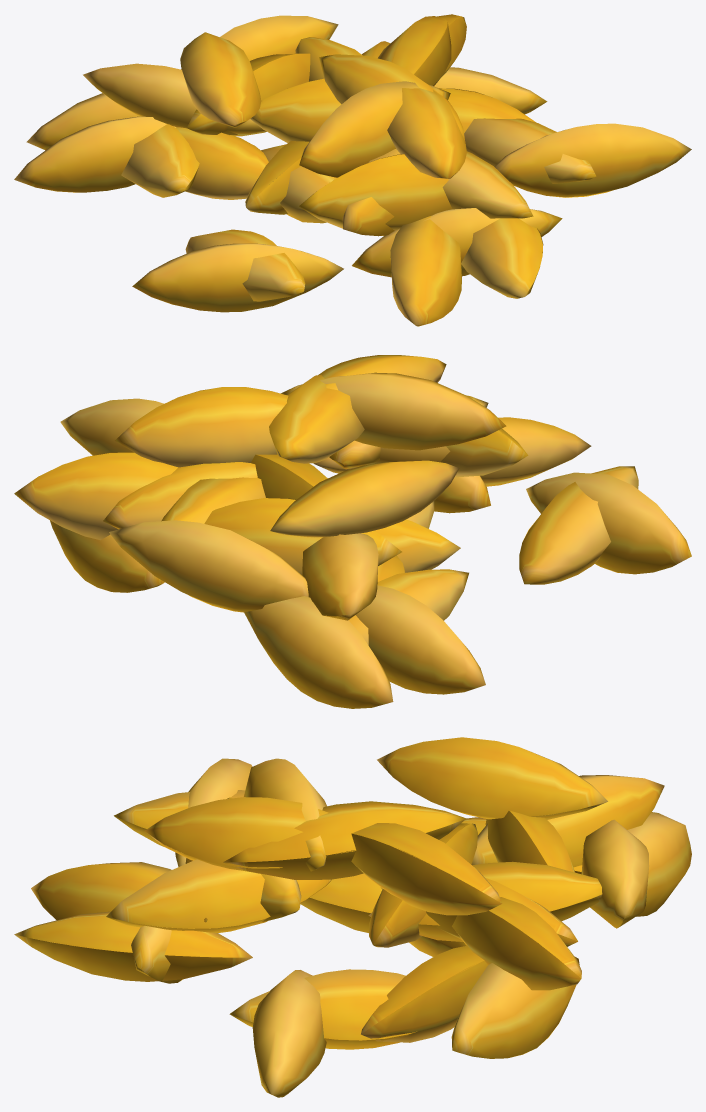
File: NP_Rice_HuskPile_LOD1.fbx
3 renders of one model, top to bottom at view 1: azimuth 30°, elevation 25°; view 2: azimuth 150°, elevation 25°; view 3: azimuth 270°, elevation 25°, orthographic. The views are drawn at different scales.
Visible parts, largest first — view 1: NP_Rice_HuskPile.001; view 2: NP_Rice_HuskPile.001; view 3: NP_Rice_HuskPile.001.
Boxes of the visible parts, left/top/right/bottom form: NP_Rice_HuskPile.001: left=14, top=14, right=691, bottom=326; NP_Rice_HuskPile.001: left=14, top=355, right=691, bottom=708; NP_Rice_HuskPile.001: left=14, top=737, right=691, bottom=1097.
Size of the model in its own units: 24.03 by 6.46 by 21.64.
